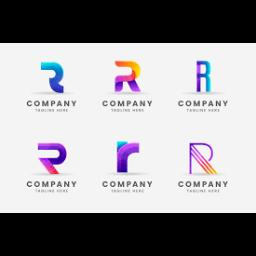r: (190, 60, 214, 96)
